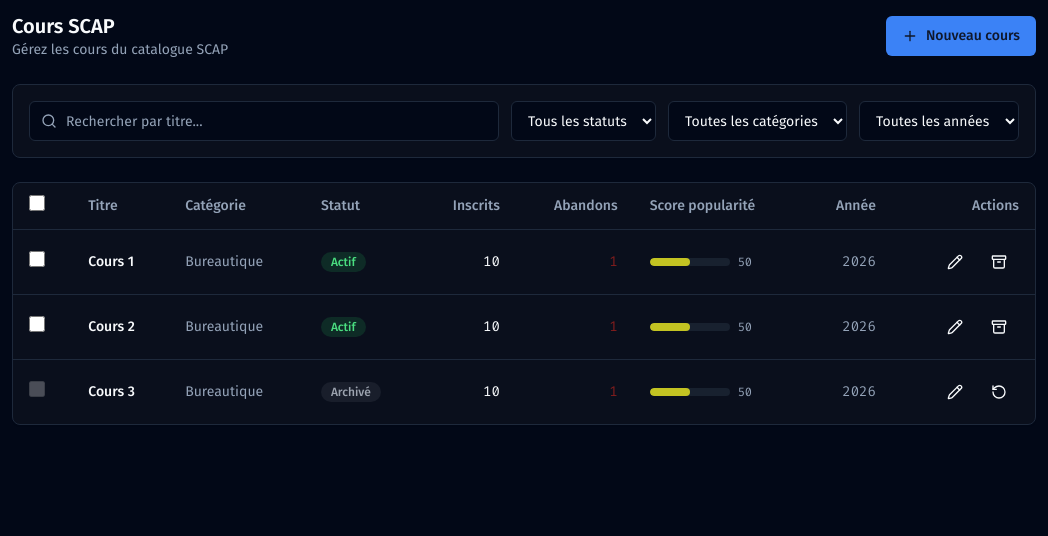
Test: Sélection › ne propose la barre d’action qu’une fois quelque chose de coché
The width and height of the screenshot is (1048, 536).
Check: the text "Cours 1" is shown, box [72,230,169,294]
Check: the button "Archiver la sélection" is not shown
Click the checkbox named "Sélectionner « Cours 1 »" at (37, 259), box [29,251,45,267]
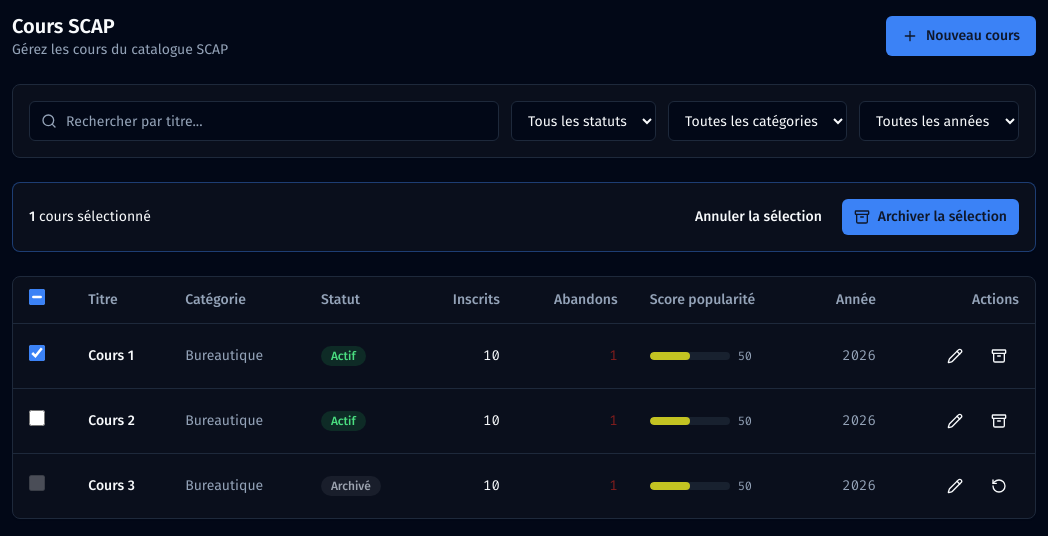
Check: the button "Archiver la sélection" is shown, box [842,199,1019,235]
